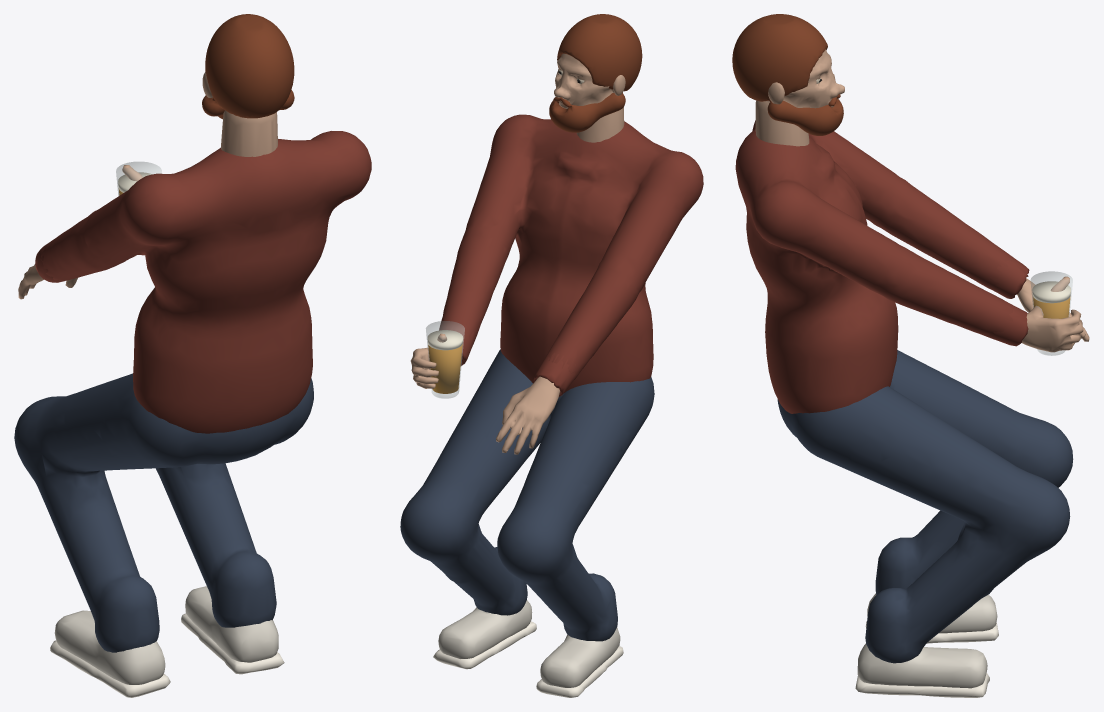
The model's file is patron_a.glb.
3 renders of one model, left to right at view 1: azimuth 30°, elevation 25°; view 2: azimuth 150°, elevation 25°; view 3: azimuth 270°, elevation 25°, orthographic. The views are drawn at different scales.
Parts seen in each view (by area): view 1: patron_a_body, patron_a_head, patron_a_hands, pint; view 2: patron_a_body, patron_a_head, patron_a_hands, pint, pint_beer, pint_foam; view 3: patron_a_body, patron_a_head, patron_a_hands, pint, pint_foam.
Part boxes in pixels (x1,y1,x2,y2): patron_a_body: (14,110,371,697); patron_a_head: (202,14,294,119); patron_a_hands: (18,165,142,299); pint: (116,162,161,195); patron_a_body: (400,107,703,697); patron_a_head: (549,14,642,132); patron_a_hands: (410,322,579,454); pint: (426,321,464,398); pint_beer: (428,344,462,393); pint_foam: (427,330,463,350); patron_a_body: (735,100,1073,697); patron_a_head: (732,14,844,135); patron_a_hands: (988,252,1089,352); pint: (1030,271,1072,355); pint_foam: (1032,281,1070,303).
Size of the model in its own units: 0.5116 by 1.43 by 0.7204.
